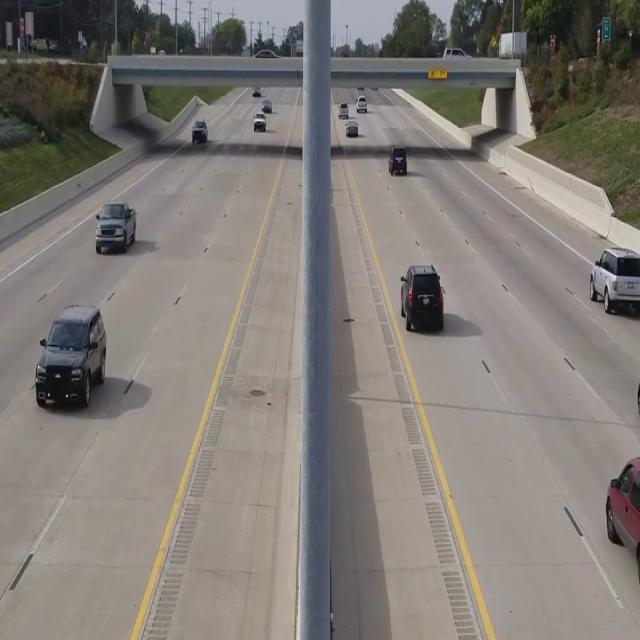car: (34, 303, 106, 409), (605, 453, 640, 597), (589, 247, 640, 315), (399, 263, 444, 332), (94, 202, 136, 254), (388, 146, 407, 175), (192, 118, 207, 144)
